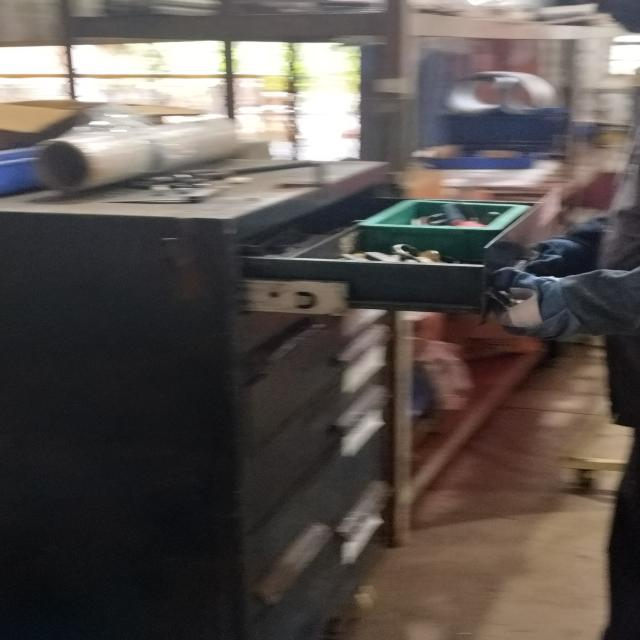Gloves-Detection: (483, 265, 640, 361)
